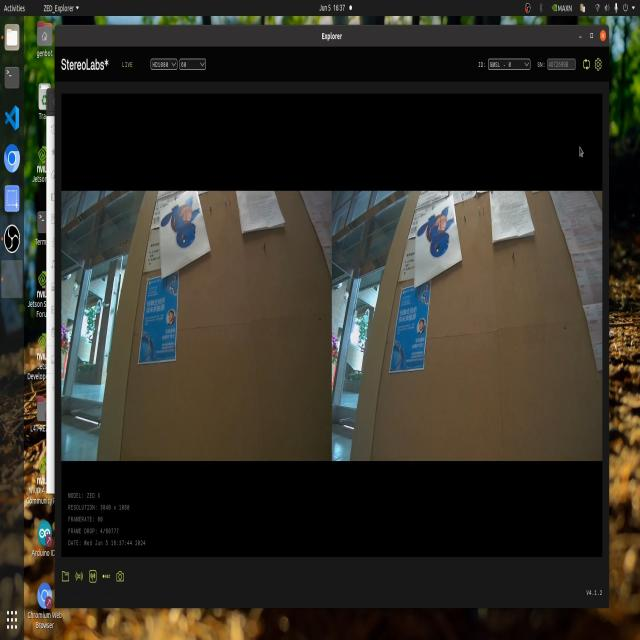blue: (417, 202, 453, 264), (169, 194, 203, 256)
